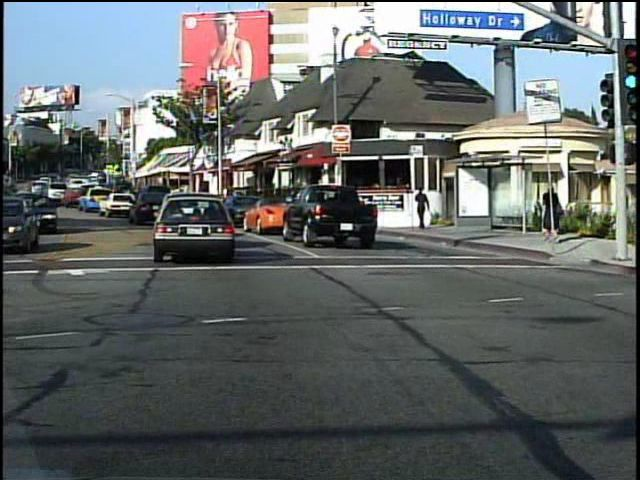person: (536, 179, 566, 253), (414, 185, 431, 235)
